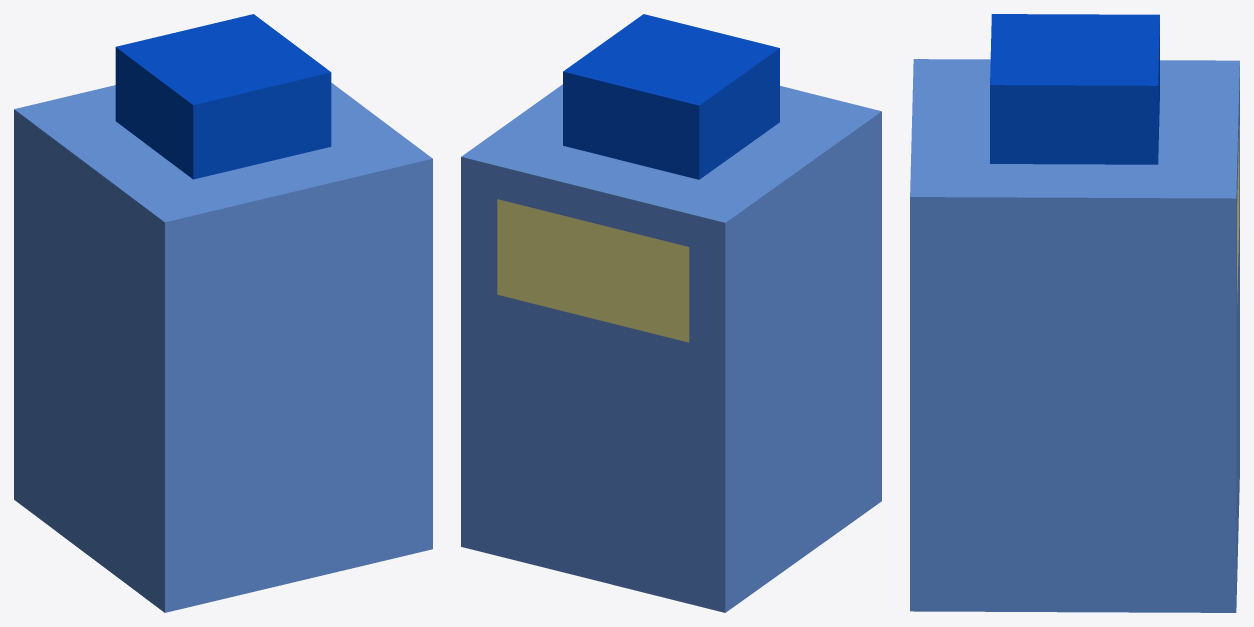
Rendered from Botella03.fbx.
The picture shows the model from 3 angles, left to right: view 1: azimuth 30°, elevation 25°; view 2: azimuth 150°, elevation 25°; view 3: azimuth 270°, elevation 25°; orthographic projection. The views are drawn at different scales.
Parts seen in each view (by area): view 1: Botella03; view 2: Botella03; view 3: Botella03.
Boxes of the visible parts, <box> form: Botella03: <box>14,14,432,612</box>; Botella03: <box>461,14,881,612</box>; Botella03: <box>910,14,1239,612</box>.
Size of the model in its own units: 12.7 by 20.95 by 12.7.
